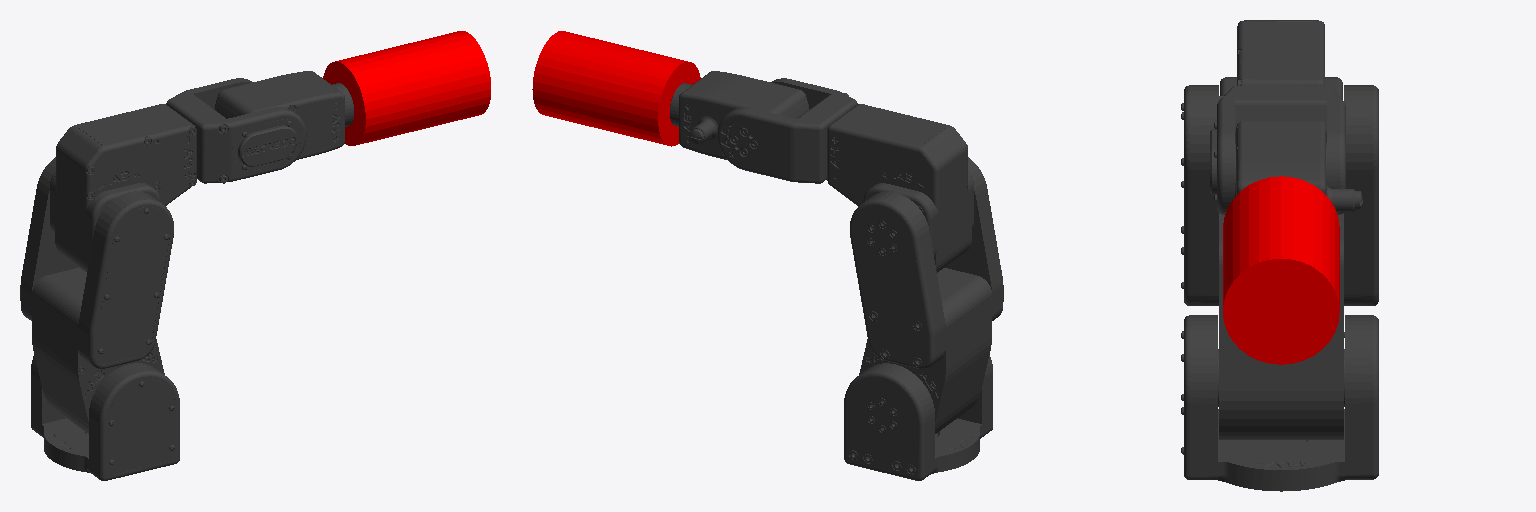
The robot description file, URDF, robot "meca_500_r3":
<?xml version='1.0' encoding='utf-8'?>
<robot name="meca_500_r3">

  
  <material name="meca_black">
    <color rgba="0 0 0 1" />
  </material>
  <material name="meca_silver">
    <color rgba="0.3 0.3 0.3 1" />
  </material>

  
  
  
  <link name="world" />
  <joint name="meca_in_world" type="fixed">
    
    <origin xyz="0 0 0.0" rpy="0 0 0" />
    <parent link="world" />
    <child link="meca_base_link" />
    <axis xyz="0 0 1" />    
  </joint>

  
  <link name="meca_base_link">
    <visual>
      <origin xyz="0 0 0" rpy="0 0 0" />
      <geometry>
        <mesh filename="meshes/meca_500_r3_base.dae" />
      </geometry>
      <material name="meca_black" />
    </visual>
    <collision>
      <origin xyz="0 0 0" rpy="0 0 0" />
      <geometry>
        <mesh filename="meshes/meca_500_r3_base_collision.stl" />
      </geometry>
    </collision>
  </link>

  
  <link name="meca_axis_1_link">
    <visual>
      <origin xyz="0 0 0" rpy="0 0 0" />
      <geometry>
        <mesh filename="meshes/meca_500_r3_j1.dae" />
      </geometry>
      <material name="meca_silver" />
    </visual>
    <collision>
      <origin xyz="0 0 0" rpy="0 0 0" />
      <geometry>
        <mesh filename="meshes/meca_500_r3_j1_collision.stl" />
      </geometry>
    </collision>
  </link>

  <joint name="meca_axis_1_joint" type="revolute">
    <origin xyz="0.012498 0 0.091" rpy="0 0 0" />
    <parent link="meca_base_link" />
    <child link="meca_axis_1_link" />
    <axis xyz="0 0 1" />
    <limit effort="10.0" velocity="2.61799" lower="-3.05433" upper="3.05433" />
  </joint>

  
  <link name="meca_axis_2_link">
    <visual>
      <origin xyz="0 0 0" rpy="0 0 0" />
      <geometry>
        <mesh filename="meshes/meca_500_r3_j2.dae" />
      </geometry>
      <material name="meca_silver" />
    </visual>
    <collision>
      <origin xyz="0 0 0" rpy="0 0 0" />
      <geometry>
        <mesh filename="meshes/meca_500_r3_j2_collision.stl" />
      </geometry>
    </collision>
  </link>

  <joint name="meca_axis_2_joint" type="revolute">
    <origin xyz="0 0 0.044" rpy="0 0 0" />
    <parent link="meca_axis_1_link" />
    <child link="meca_axis_2_link" />
    <axis xyz="0 1 0" />
    <limit effort="10.0" velocity="2.61799" lower="-1.22173048" upper="1.5708" />
  </joint>

  
  <link name="meca_axis_3_link">
    <visual>
      <origin xyz="0 0 0" rpy="0 0 0" />
      <geometry>
        <mesh filename="meshes/meca_500_r3_j3.dae" />
      </geometry>
      <material name="meca_silver" />
    </visual>
    <collision>
      <origin xyz="0 0 0" rpy="0 0 0" />
      <geometry>
        <mesh filename="meshes/meca_500_r3_j3_collision.stl" />
      </geometry>
    </collision>
  </link>

  <joint name="meca_axis_3_joint" type="revolute">
    <origin xyz="0 0 0.135" rpy="0 0 0" />
    <parent link="meca_axis_2_link" />
    <child link="meca_axis_3_link" />
    <axis xyz="0 1 0" />
    <limit effort="10.0" velocity="3.14159" lower="-2.35619" upper="1.22173048" />
  </joint>

  
  <link name="meca_axis_4_link">
    <visual>
      <origin xyz="0 0 0" rpy="0 0 0" />
      <geometry>
        <mesh filename="meshes/meca_500_r3_j4.dae" />
      </geometry>
      <material name="meca_silver" />
    </visual>
    <collision>
      <origin xyz="0 0 0" rpy="0 0 0" />
      <geometry>
        <mesh filename="meshes/meca_500_r3_j4_collision.stl" />
      </geometry>
    </collision>
  </link>

  <joint name="meca_axis_4_joint" type="revolute">
    <origin xyz="0 0 0.038" rpy="0 0 0" />
    <parent link="meca_axis_3_link" />
    <child link="meca_axis_4_link" />
    <axis xyz="1 0 0" />
    <limit effort="10.0" velocity="5.23599" lower="-2.96706" upper="2.96706" />
  </joint>

  
  <link name="meca_axis_5_link">
    <visual>
      <origin xyz="0 0 0" rpy="0 0 0" />
      <geometry>
        <mesh filename="meshes/meca_500_r3_j5.dae" />
      </geometry>
      <material name="meca_silver" />
    </visual>
    <collision>
      <origin xyz="0 0 0" rpy="0 0 0" />
      <geometry>
        <mesh filename="meshes/meca_500_r3_j5_collision.stl" />
      </geometry>
    </collision>
  </link>

  <joint name="meca_axis_5_joint" type="revolute">
    <origin xyz="0.12 0 0" rpy="0 0 0" />
    <parent link="meca_axis_4_link" />
    <child link="meca_axis_5_link" />
    <axis xyz="0 1 0" />
    <limit effort="10.0" velocity="5.23599" lower="-2.00713" upper="2.00713" />
  </joint>

  
  <link name="meca_axis_6_link">
    <visual>
      <origin xyz="0 0 0" rpy="0 0 0" />
      <geometry>
        <mesh filename="meshes/meca_500_r3_j6.dae" />
      </geometry>
      <material name="meca_silver" />
    </visual>
    <collision>
      <origin xyz="0 0 0" rpy="0 0 0" />
      <geometry>
        <mesh filename="meshes/meca_500_r3_j6_collision.stl" />
      </geometry>
    </collision>
  </link>

  <joint name="meca_axis_6_joint" type="revolute">
    <origin xyz="0.07 0 0" rpy="0 0 0" />
    <parent link="meca_axis_5_link" />
    <child link="meca_axis_6_link" />
    <axis xyz="1 0 0" />
    <limit effort="10.0" velocity="8.72665" lower="-3.14159" upper="3.14159" />
  </joint>

<link name="MECA500_1_tool_tool_base_link">
    <visual>
      <geometry>
        <cylinder length="0.1" radius="0.03" />
      </geometry>
      <origin rpy="0 0 0" xyz="0 0 0.05" />
      <material name="red">
        <color rgba="1 0 0 1" />
      </material>
    </visual>
    <collision>
      <geometry>
        <cylinder length="0.1" radius="0.03" />
      </geometry>
      <origin rpy="0 0 0" xyz="0 0 0.05" />
    </collision>
  </link>
  <link name="MECA500_1_tool_tool_tip_link" />
  <joint name="tool_base_to_tip" type="fixed">
    <parent link="MECA500_1_tool_tool_base_link" />
    <child link="MECA500_1_tool_tool_tip_link" />
    <origin rpy="0 0 0" xyz="0 0 0.05" />
  </joint>
<joint name="MECA500_1_tool_attach_joint" type="fixed"><parent link="meca_axis_6_link" /><child link="MECA500_1_tool_tool_base_link" /><origin xyz="0.0 0.0 0.0" rpy="0.0 1.57 0.0" /></joint></robot>

--- What the picture shows (computed from the rendered views, not written in the file) ---
3 views of the same robot in one strip: view 1: azimuth 30°, elevation 25°; view 2: azimuth 150°, elevation 25°; view 3: azimuth 270°, elevation 25° (orthographic).
Robot: meca_500_r3 — 10 links, 9 joints (6 revolute, 3 fixed); root link world; default pose: every joint at zero.
Links seen in each view (by area): view 1: meca_axis_2_link, meca_axis_3_link, MECA500_1_tool_tool_base_link, meca_axis_1_link, meca_axis_4_link, meca_axis_5_link; view 2: meca_axis_2_link, meca_axis_3_link, MECA500_1_tool_tool_base_link, meca_axis_1_link, meca_axis_4_link, meca_axis_5_link; view 3: meca_axis_2_link, MECA500_1_tool_tool_base_link, meca_axis_1_link, meca_axis_4_link, meca_axis_5_link, meca_axis_3_link.
Link boxes in pixels (x1,y1,x2,y2): meca_axis_2_link: (20, 157, 173, 433); meca_axis_3_link: (50, 104, 196, 271); MECA500_1_tool_tool_base_link: (323, 31, 490, 145); meca_axis_1_link: (31, 355, 179, 480); meca_axis_4_link: (166, 78, 306, 183); meca_axis_5_link: (214, 71, 353, 159); meca_axis_2_link: (850, 157, 1003, 433); meca_axis_3_link: (827, 104, 973, 272); MECA500_1_tool_tool_base_link: (532, 31, 700, 146); meca_axis_1_link: (844, 355, 992, 480); meca_axis_4_link: (717, 78, 857, 183); meca_axis_5_link: (670, 71, 809, 159); meca_axis_2_link: (1181, 85, 1378, 439); MECA500_1_tool_tool_base_link: (1223, 176, 1339, 364); meca_axis_1_link: (1181, 315, 1378, 491); meca_axis_4_link: (1210, 86, 1345, 214); meca_axis_5_link: (1235, 121, 1362, 211); meca_axis_3_link: (1220, 20, 1342, 99).
Size in the robot's own frame: 0.3325 by 0.1014 by 0.2471 metres.
6 mesh visuals loaded from 7 distinct referenced files (6 Collada DAE); not drawn: 1 (file found but could not be loaded).
